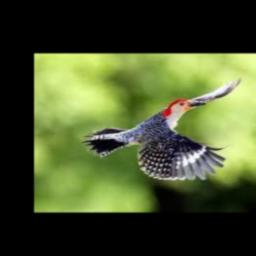Woodpecker: (84, 76, 242, 180)
